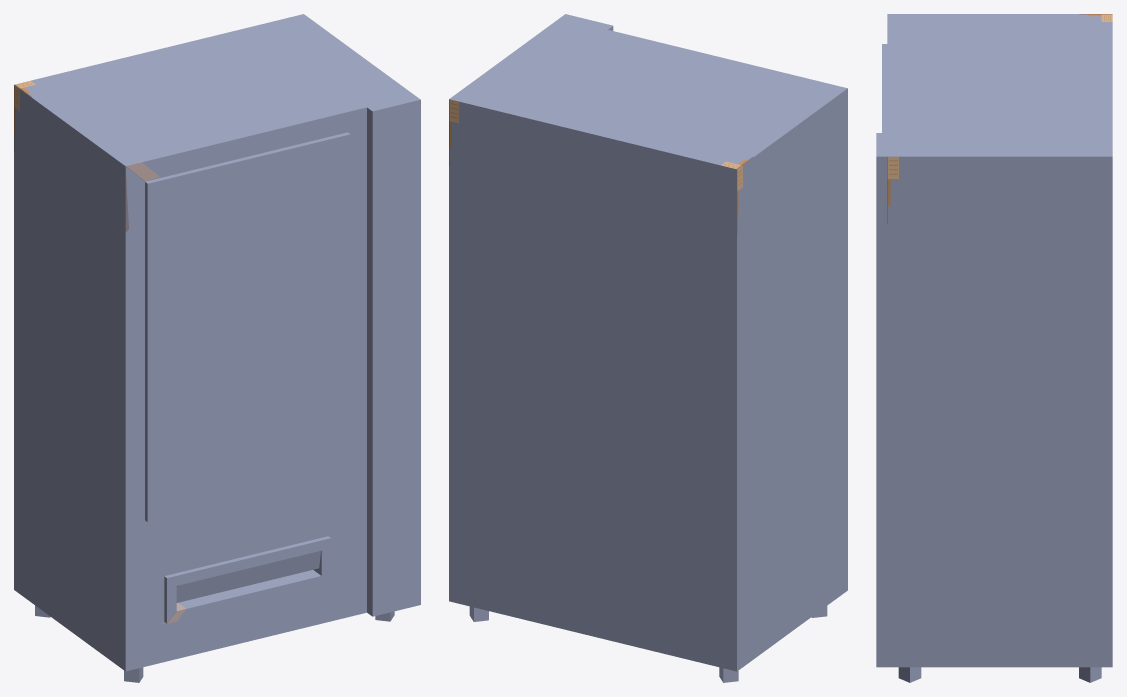
File: machine_vending.FBX
3 views of the same model, side by side, from view 1: azimuth 30°, elevation 25°; view 2: azimuth 150°, elevation 25°; view 3: azimuth 270°, elevation 25° (orthographic).
Parts seen in each view (by area): view 1: machine_vending; view 2: machine_vending; view 3: machine_vending.
Part boxes in pixels (box(x1,y1,x2,y2)): machine_vending: box(14, 14, 420, 682); machine_vending: box(449, 14, 847, 682); machine_vending: box(876, 14, 1112, 682).
Bounding box in the file's own units: 120 × 208 × 84.
